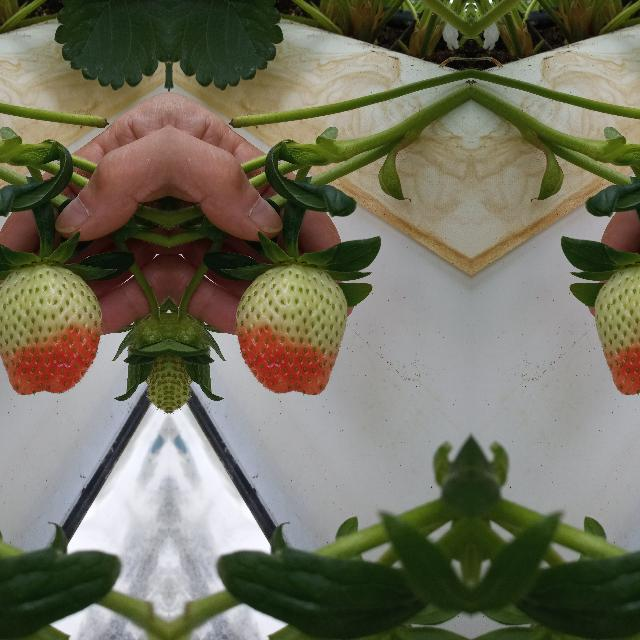Health_50: (234, 260, 346, 396), (0, 260, 102, 396), (594, 260, 640, 396)
